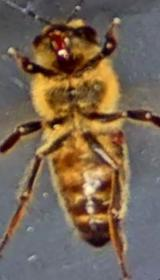varroa_mite: (104, 123, 131, 154)
